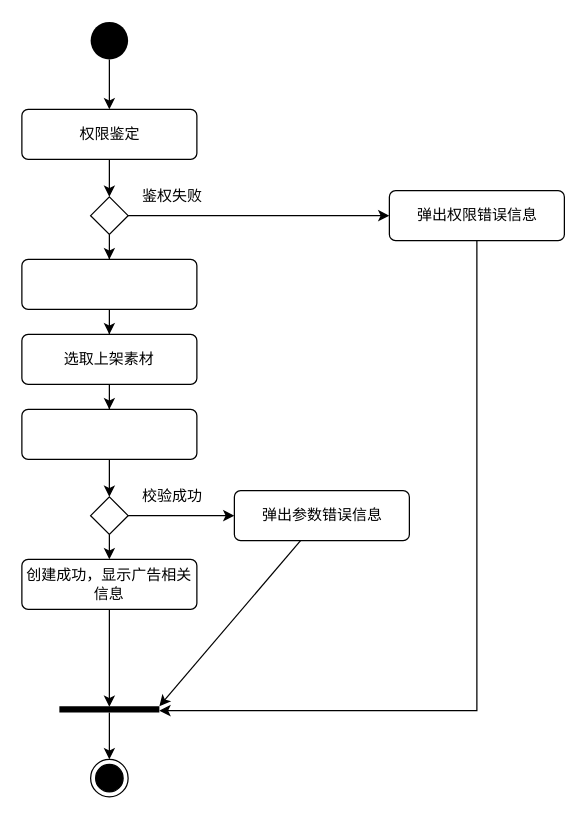
The diagram is 586 pixels wide and 819 high, and some of its shapes have lost their labels. The shapes that lost their labels are listed below. From the top down, each one's box as (x1, y1, x2, y2) in pixels, then its label:
(21, 258, 197, 309): 填写广告投放时间、广告出价相关信息
(21, 408, 197, 459): 参数校验
